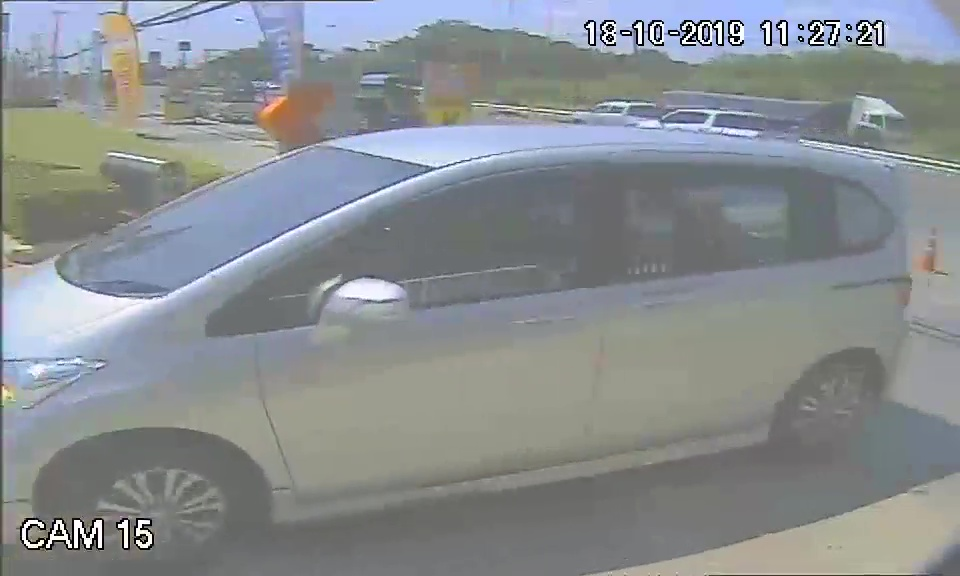pickup: (10, 119, 911, 514)
